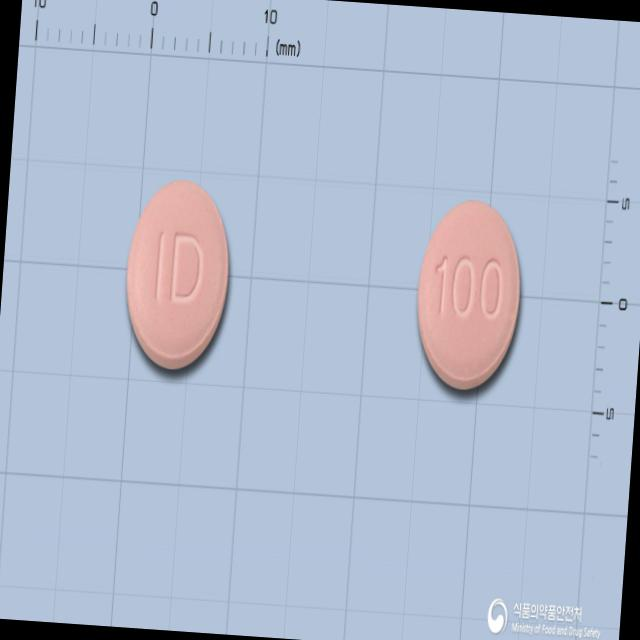Flomox: (120, 174, 236, 373), (411, 195, 526, 394)
